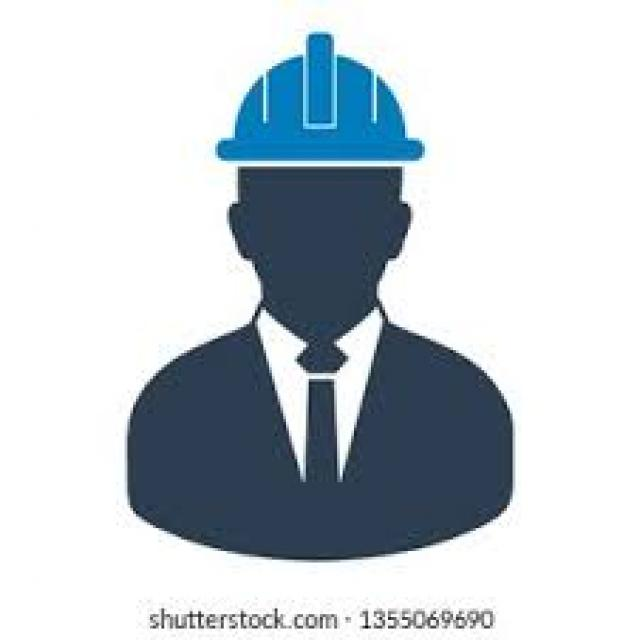Safety-Helmet: (215, 49, 425, 178)
